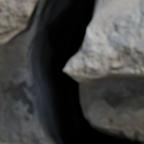broken_brick: (66, 0, 143, 83), (0, 0, 33, 47)
crack: (2, 0, 142, 143)
